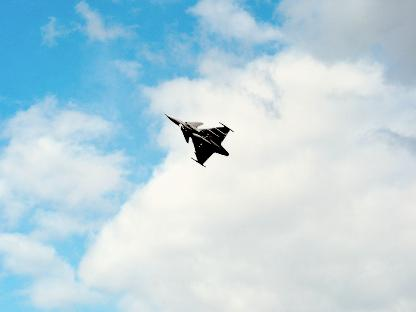JAS39: (164, 113, 234, 167)
